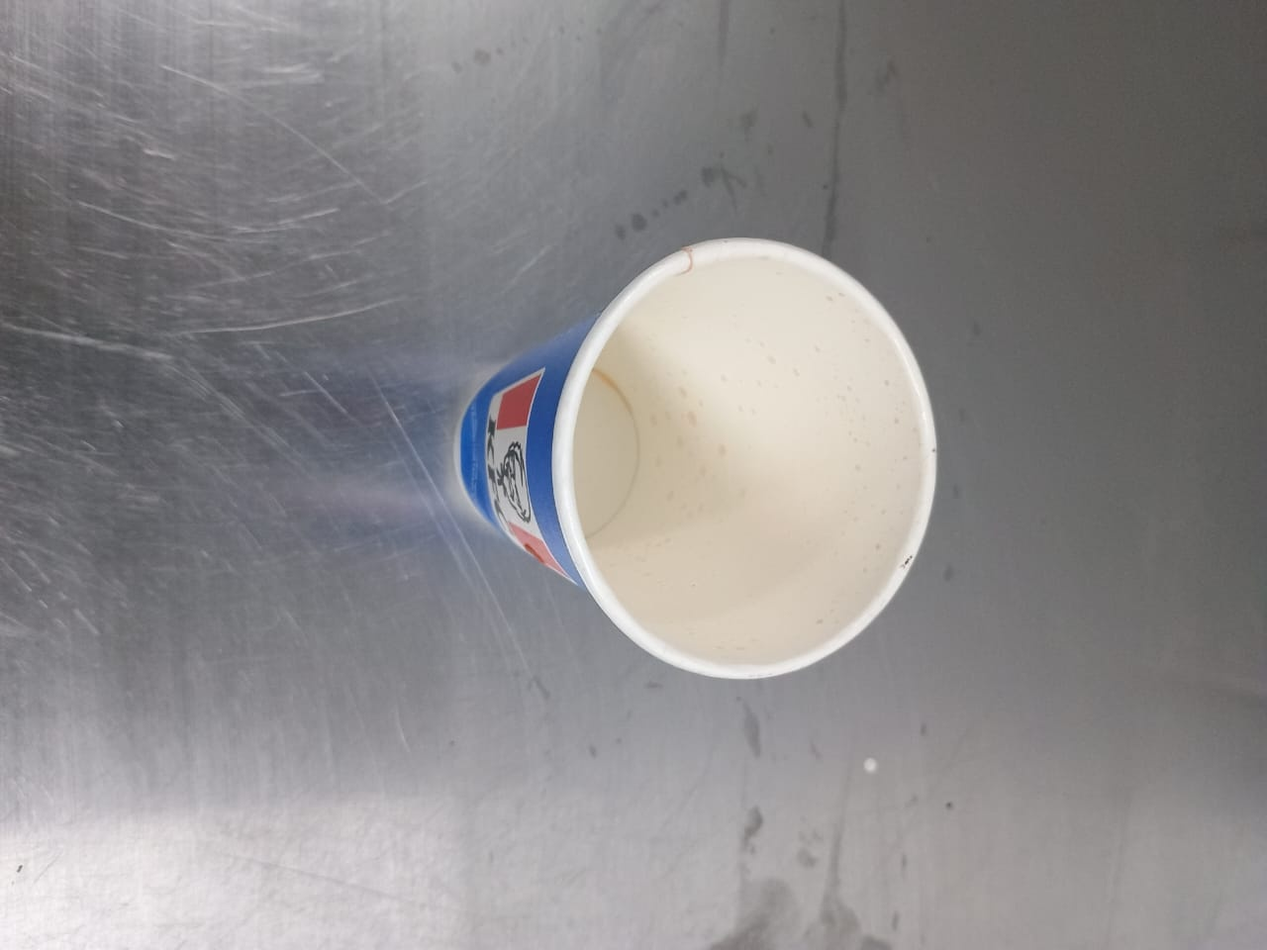Carton: (455, 238, 940, 681)
